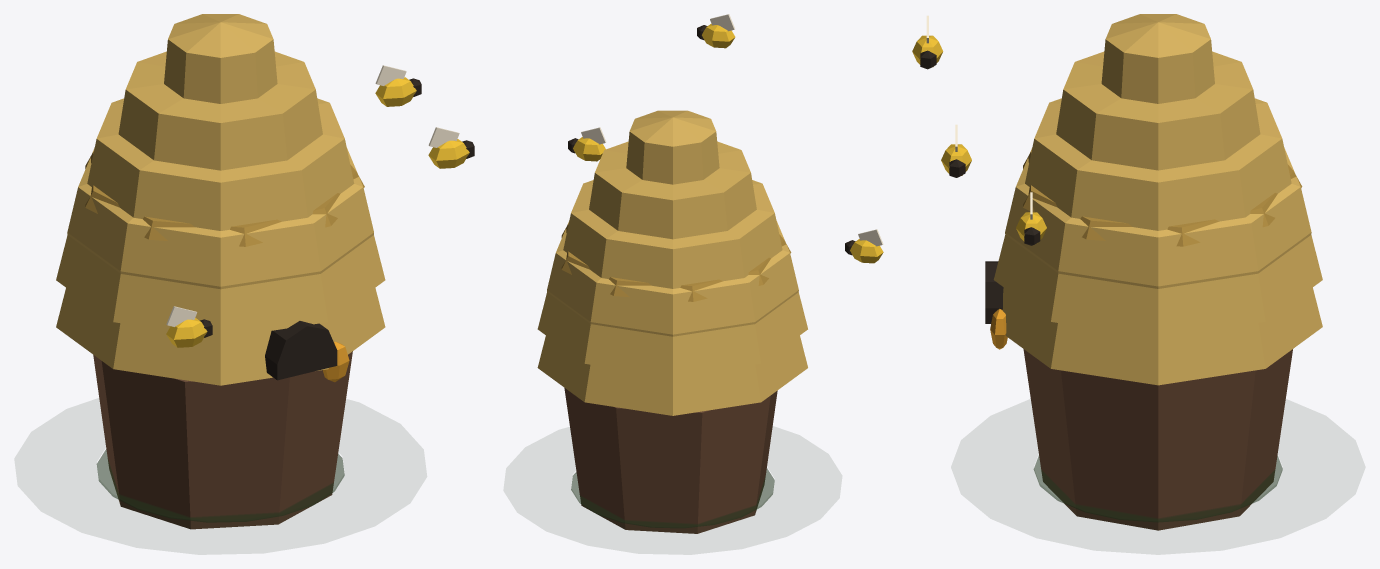
The model's file is beehive.glb.
The picture shows the model from 3 angles, left to right: view 1: azimuth 30°, elevation 25°; view 2: azimuth 150°, elevation 25°; view 3: azimuth 270°, elevation 25°; orthographic projection. The views are drawn at different scales.
Visible parts, largest first — view 1: beehive; view 2: beehive; view 3: beehive.
Part boxes in pixels (bbox=[...]): beehive: bbox=[56, 14, 474, 529]; beehive: bbox=[537, 14, 883, 533]; beehive: bbox=[912, 14, 1322, 530].
Bounding box in the file's own units: 0.7398 × 0.9364 × 0.787.
